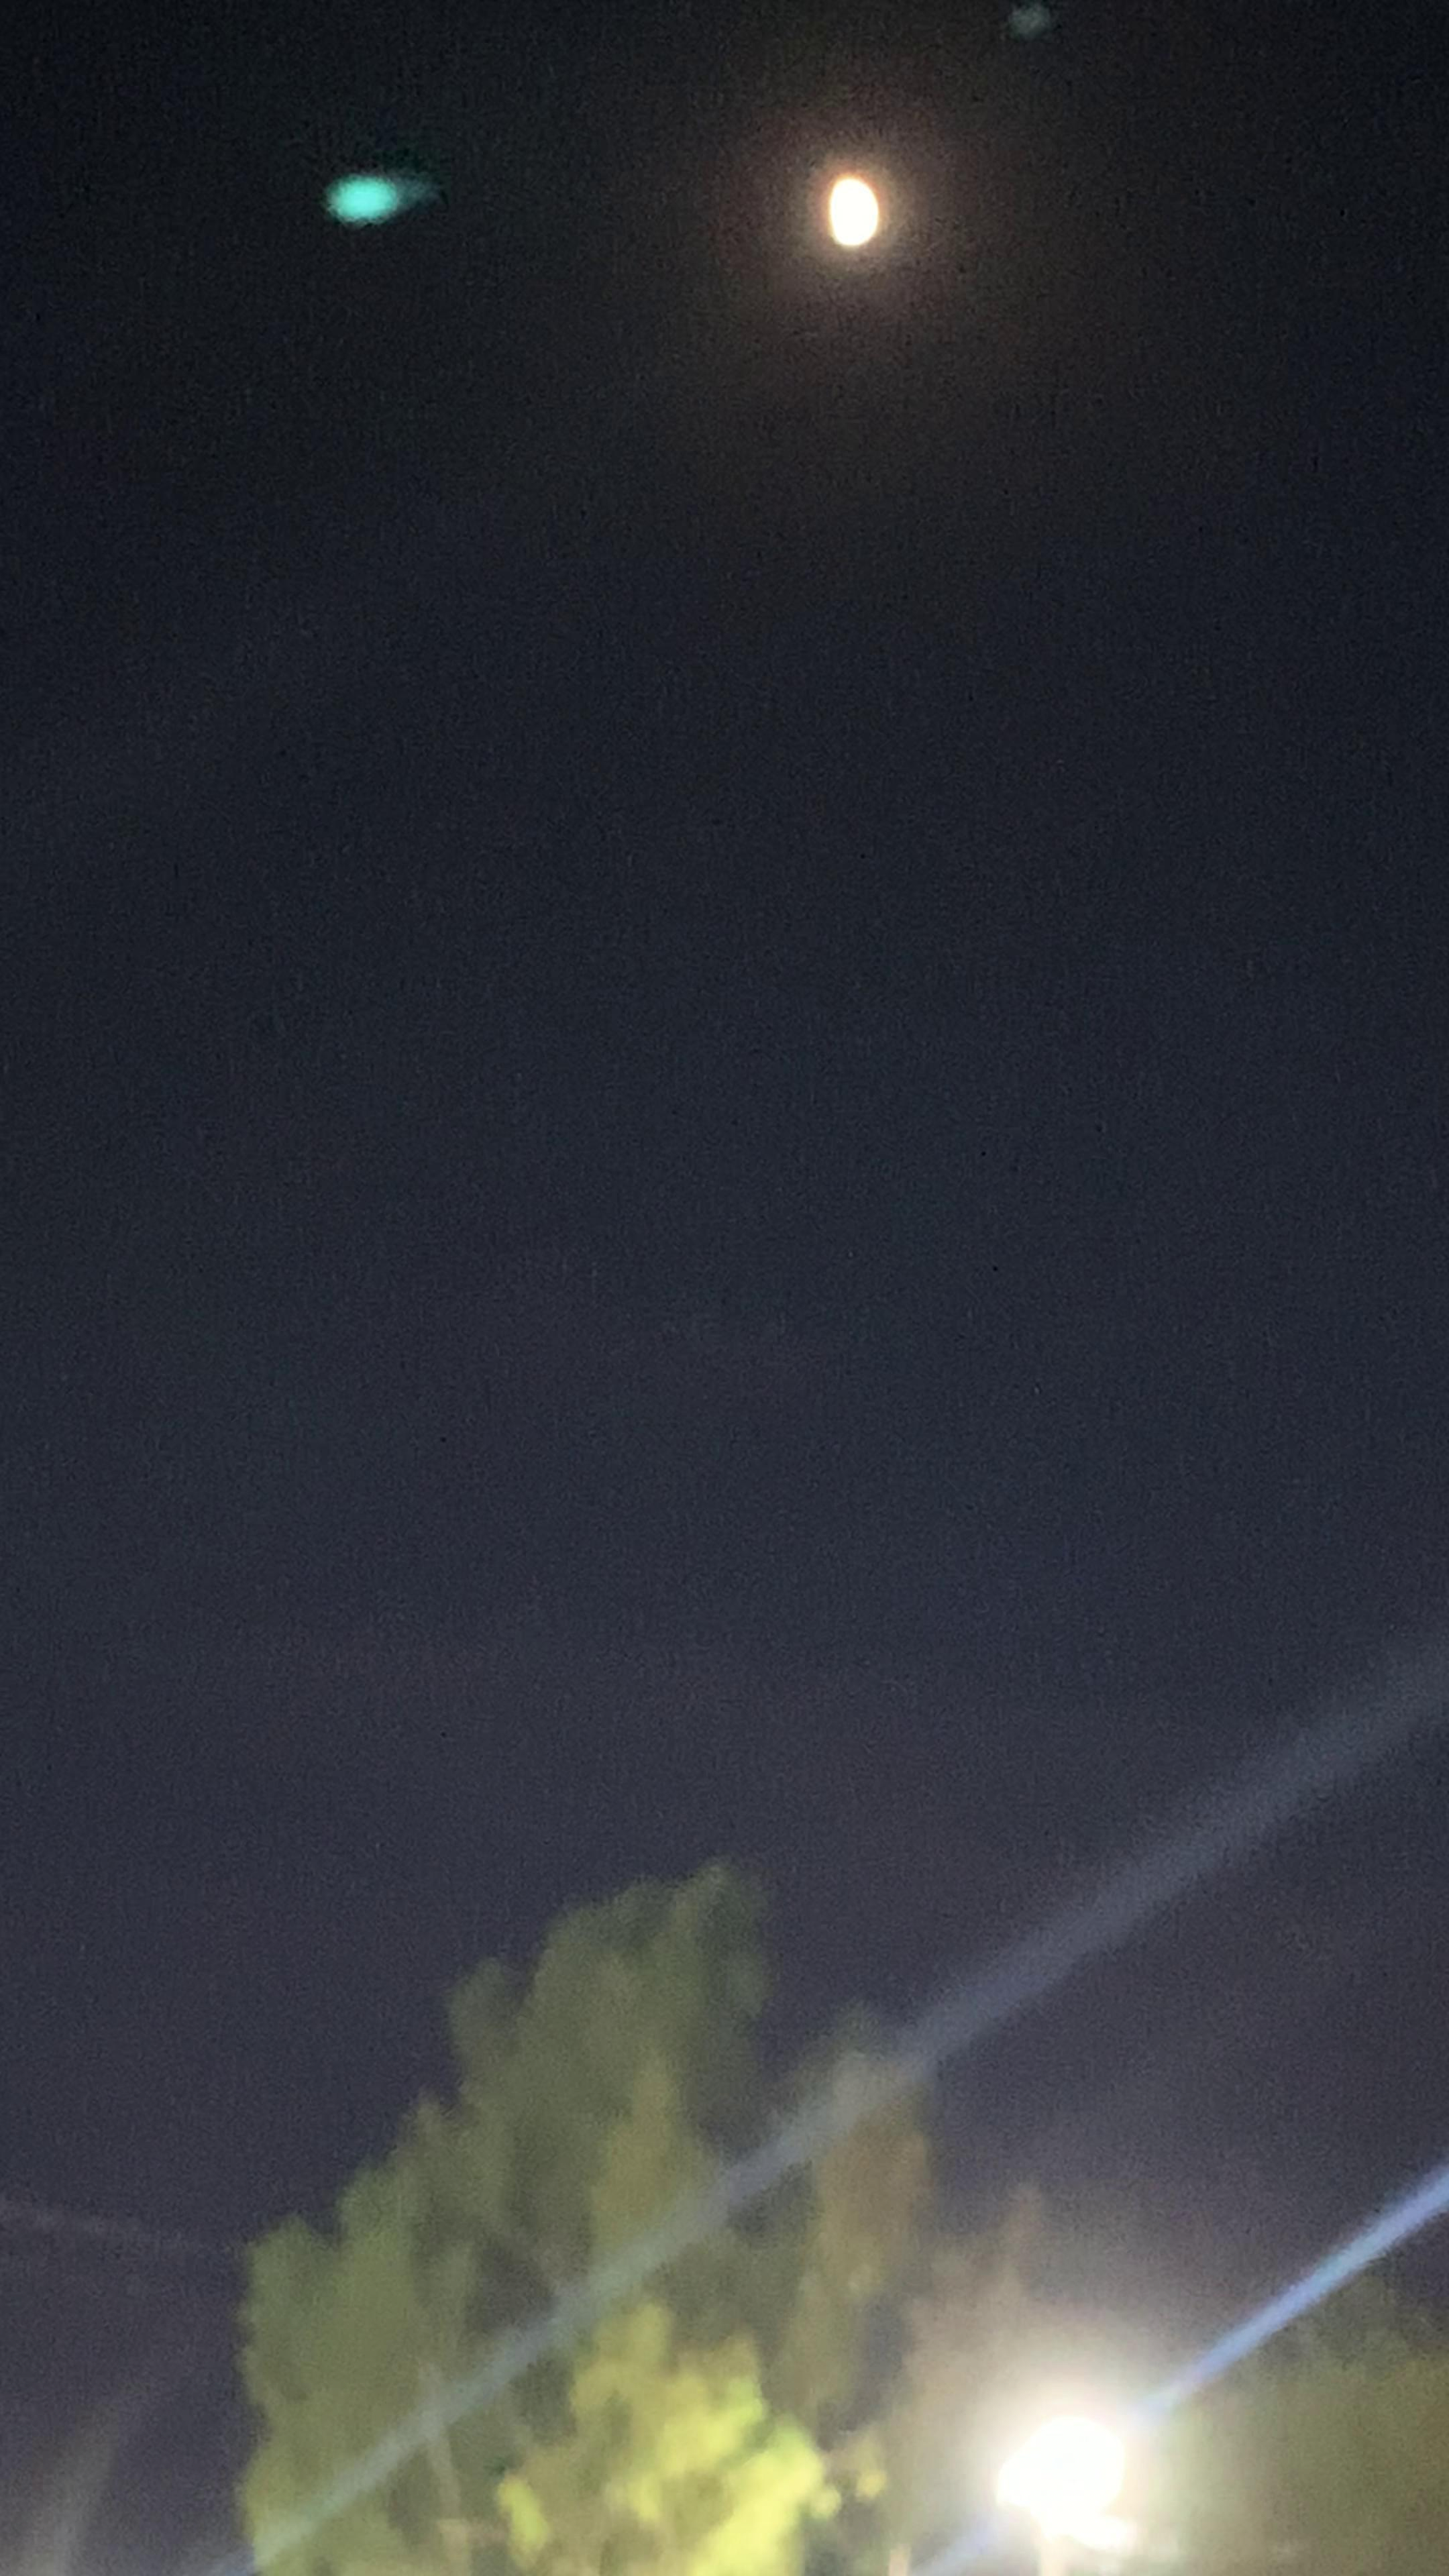moon: (789, 154, 922, 276)
